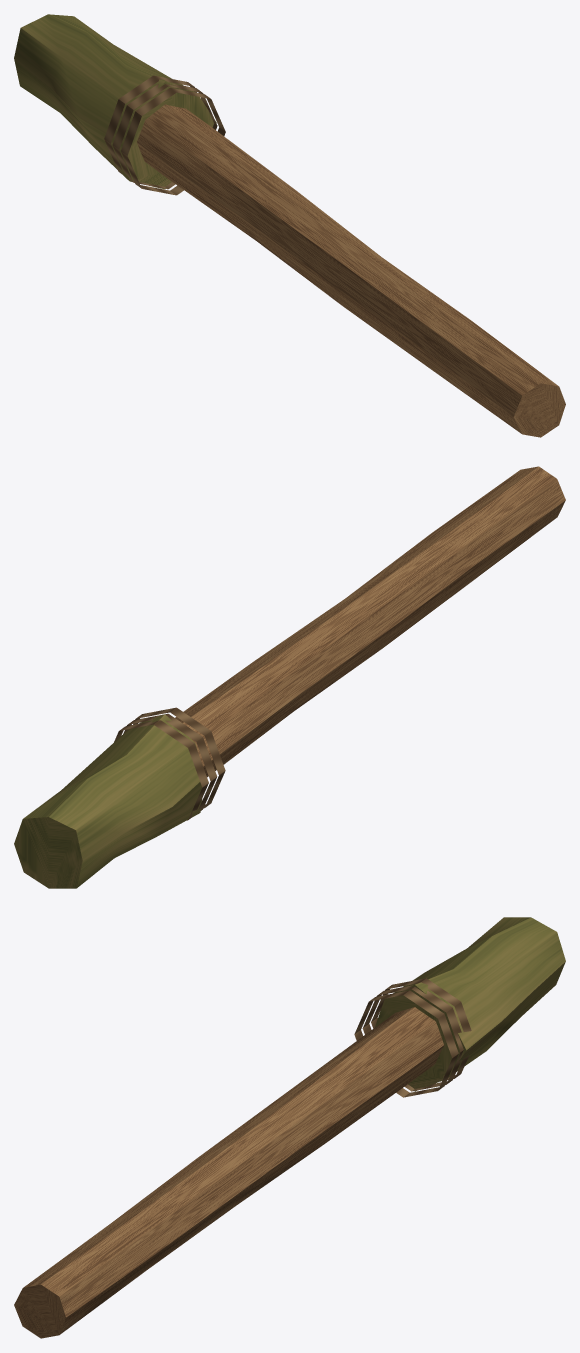
The model's file is TOOL_Torch.fbx.
3 renders of one model, top to bottom at view 1: azimuth 30°, elevation 25°; view 2: azimuth 150°, elevation 25°; view 3: azimuth 330°, elevation 25°, orthographic.
Visible parts, largest first — view 1: TOOL_Torch; view 2: TOOL_Torch; view 3: TOOL_Torch.
Part boxes in pixels (x1=…): TOOL_Torch: x1=14, y1=14, x2=565, y2=437; TOOL_Torch: x1=14, y1=466, x2=565, y2=888; TOOL_Torch: x1=14, y1=917, x2=565, y2=1338.
Size of the model in its own units: 0.0698 by 0.0709 by 0.59.
